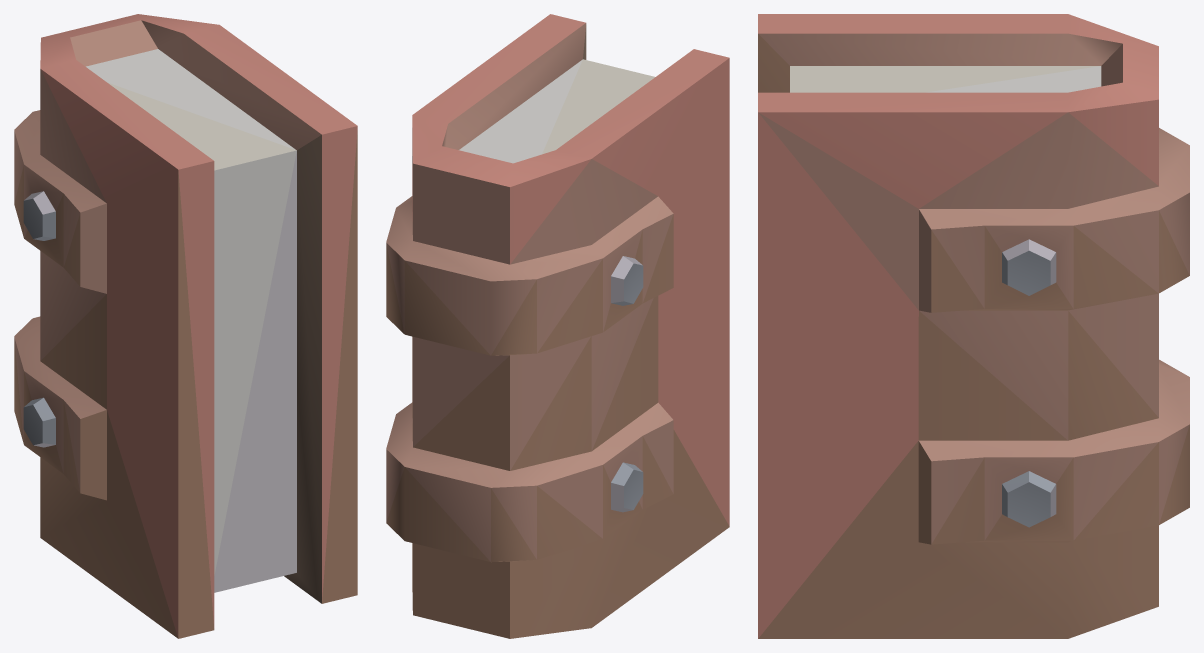
The picture shows the model from 3 angles, left to right: view 1: azimuth 30°, elevation 25°; view 2: azimuth 150°, elevation 25°; view 3: azimuth 270°, elevation 25°; orthographic projection. The views are drawn at different scales.
Visible parts, largest first — view 1: model; view 2: model; view 3: model.
Part boxes in pixels (bbox=[...]): model: bbox=[14, 14, 357, 638]; model: bbox=[386, 14, 729, 638]; model: bbox=[758, 14, 1189, 638].
Size of the model in its own units: 0.2198 by 0.4312 by 0.3204.
